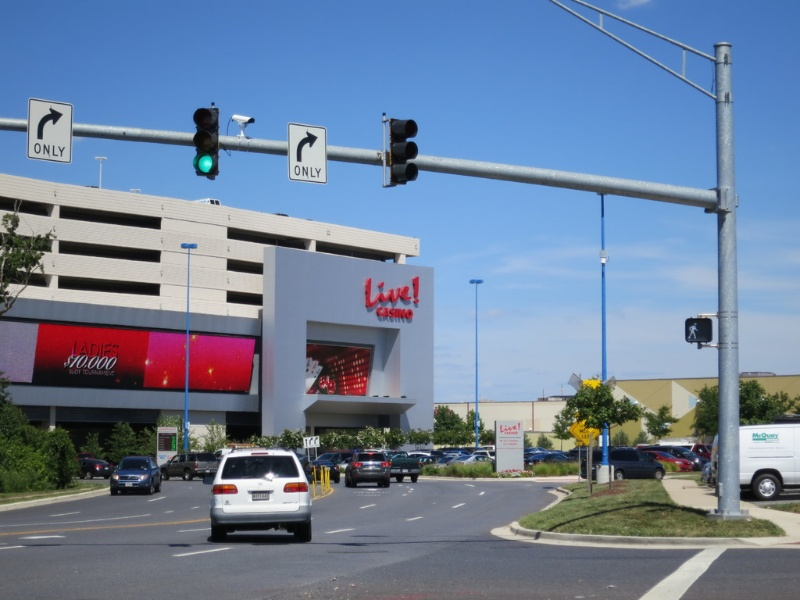green_light: (188, 102, 232, 184)
